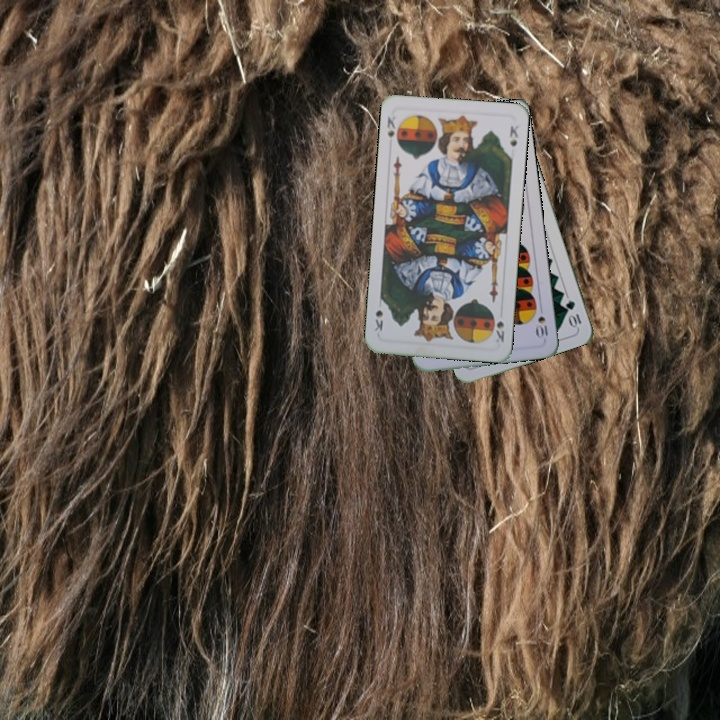G10: (562, 296, 584, 330)
S10: (532, 312, 551, 341)
SK: (490, 317, 507, 345), (383, 112, 398, 140)
